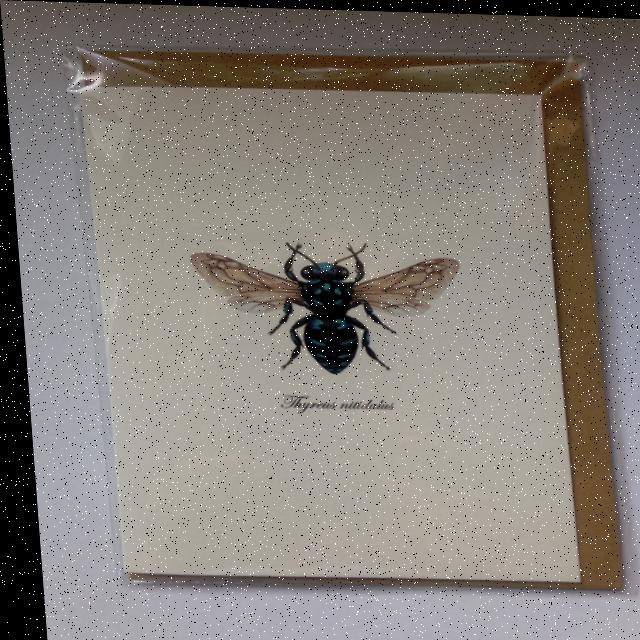Thyreus: (181, 236, 469, 381)
